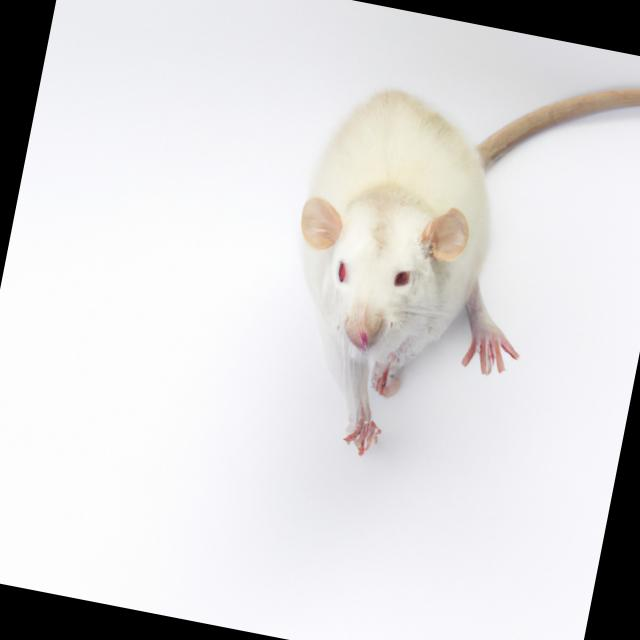rodent: (242, 61, 592, 497)
